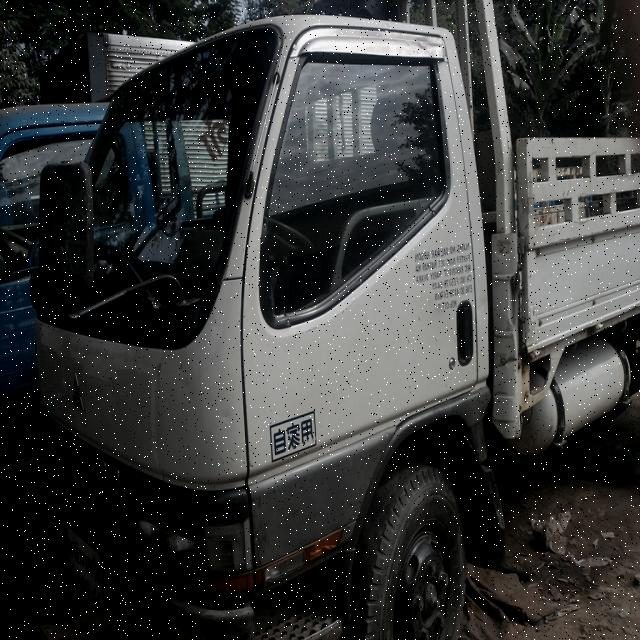truck: (35, 0, 640, 639)
